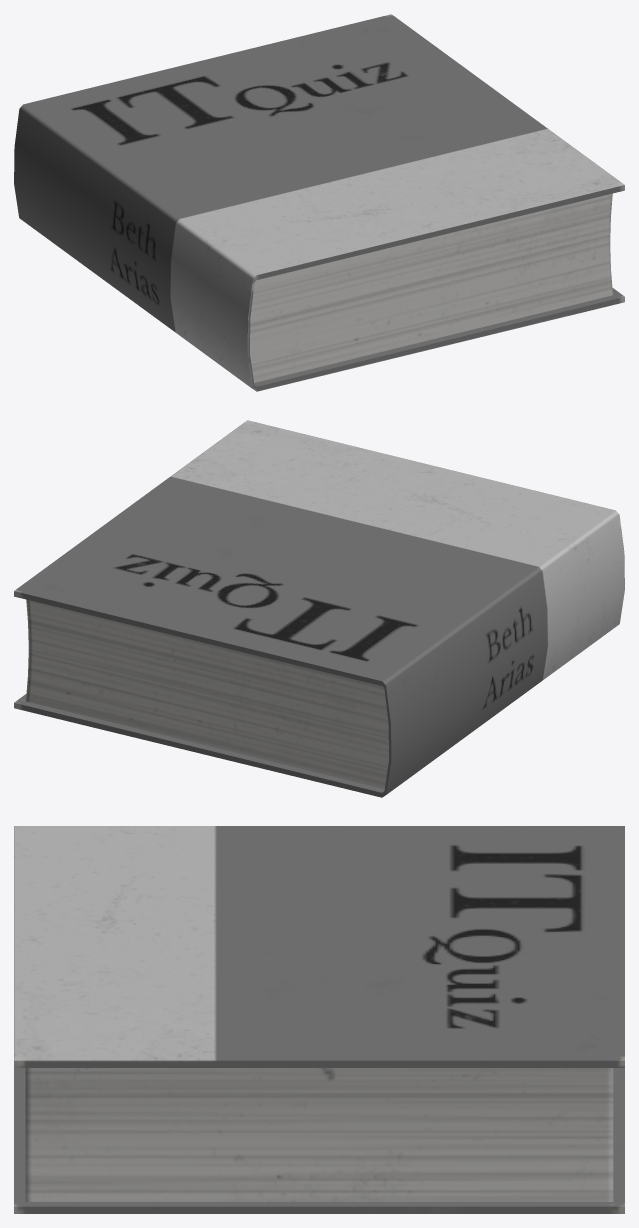
File: SM_BookA.fbx
The picture shows the model from 3 angles, top to bottom: view 1: azimuth 30°, elevation 25°; view 2: azimuth 150°, elevation 25°; view 3: azimuth 270°, elevation 25°; orthographic projection. The views are drawn at different scales.
Parts seen in each view (by area): view 1: SM_BookA_LOD0; view 2: SM_BookA_LOD0; view 3: SM_BookA_LOD0.
Boxes of the visible parts, x1=… form: SM_BookA_LOD0: x1=14, y1=14, x2=624, y2=391; SM_BookA_LOD0: x1=14, y1=420, x2=624, y2=797; SM_BookA_LOD0: x1=14, y1=826, x2=624, y2=1213.
Bounding box in the file's own units: 17.94 × 19.23 × 5.32.
Materials: 1 (1 with a texture image).
